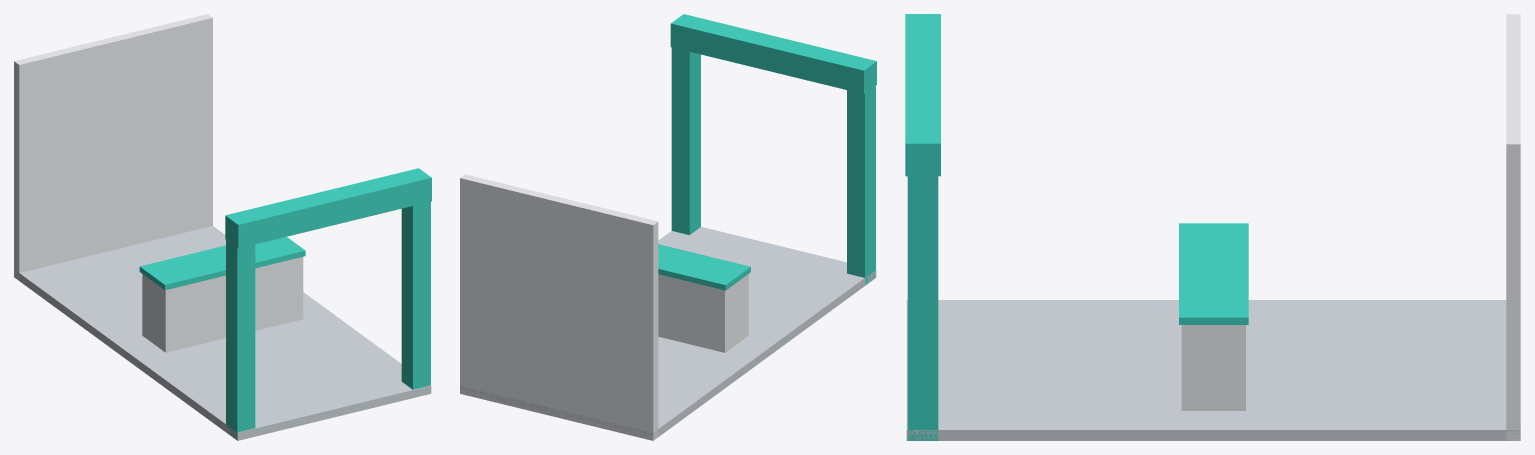
3 views of the same model, side by side, from view 1: azimuth 30°, elevation 25°; view 2: azimuth 150°, elevation 25°; view 3: azimuth 270°, elevation 25° (orthographic). The views are drawn at different scales.
Parts seen in each view (by area): view 1: Exhibition Booth Concept; view 2: Exhibition Booth Concept; view 3: Exhibition Booth Concept.
Part boxes in pixels (bbox=[...]): Exhibition Booth Concept: bbox=[14, 14, 431, 440]; Exhibition Booth Concept: bbox=[460, 14, 876, 440]; Exhibition Booth Concept: bbox=[905, 14, 1520, 440].
Size of the model in its own units: 3 by 3.2 by 6.02.
